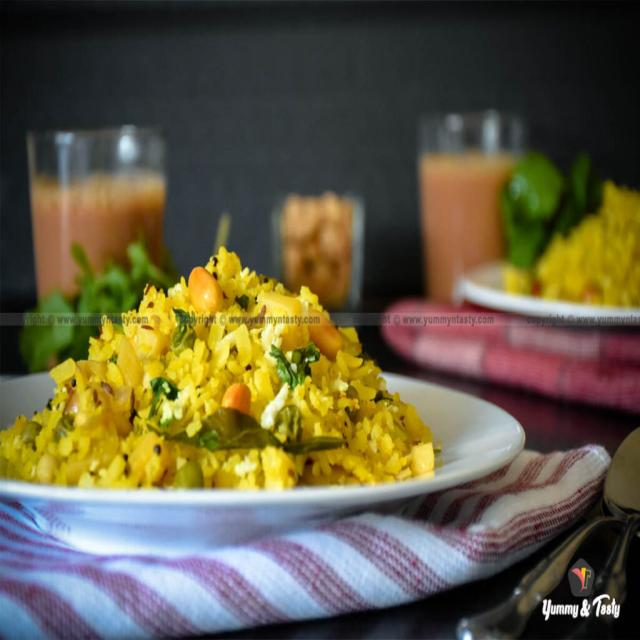UPMA: (2, 249, 439, 487)
